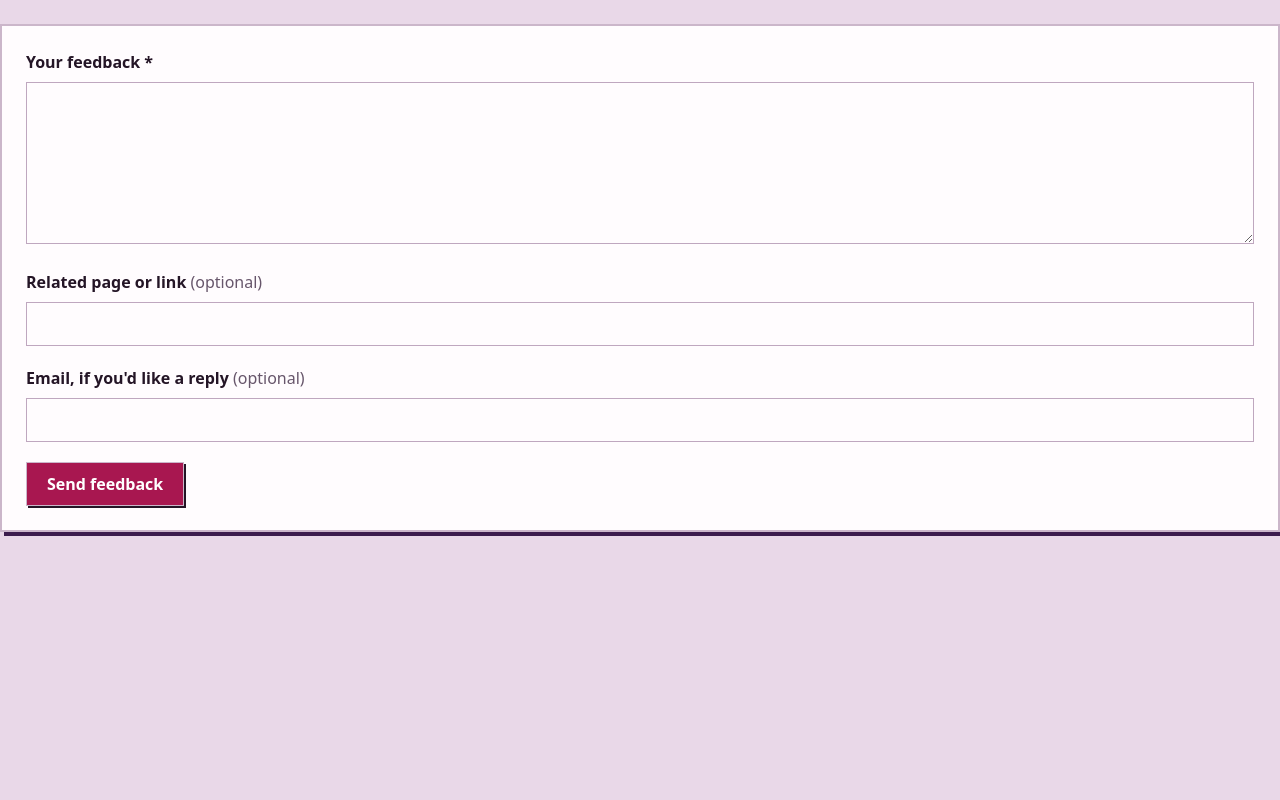
Test: CorrectionForm › clears the form and announces success
Type "Please make searching by song easier." into the text box labelled "Your feedback *".
click(640, 163); type("Please make searching by song easier.")  # box [26,82,1254,244]
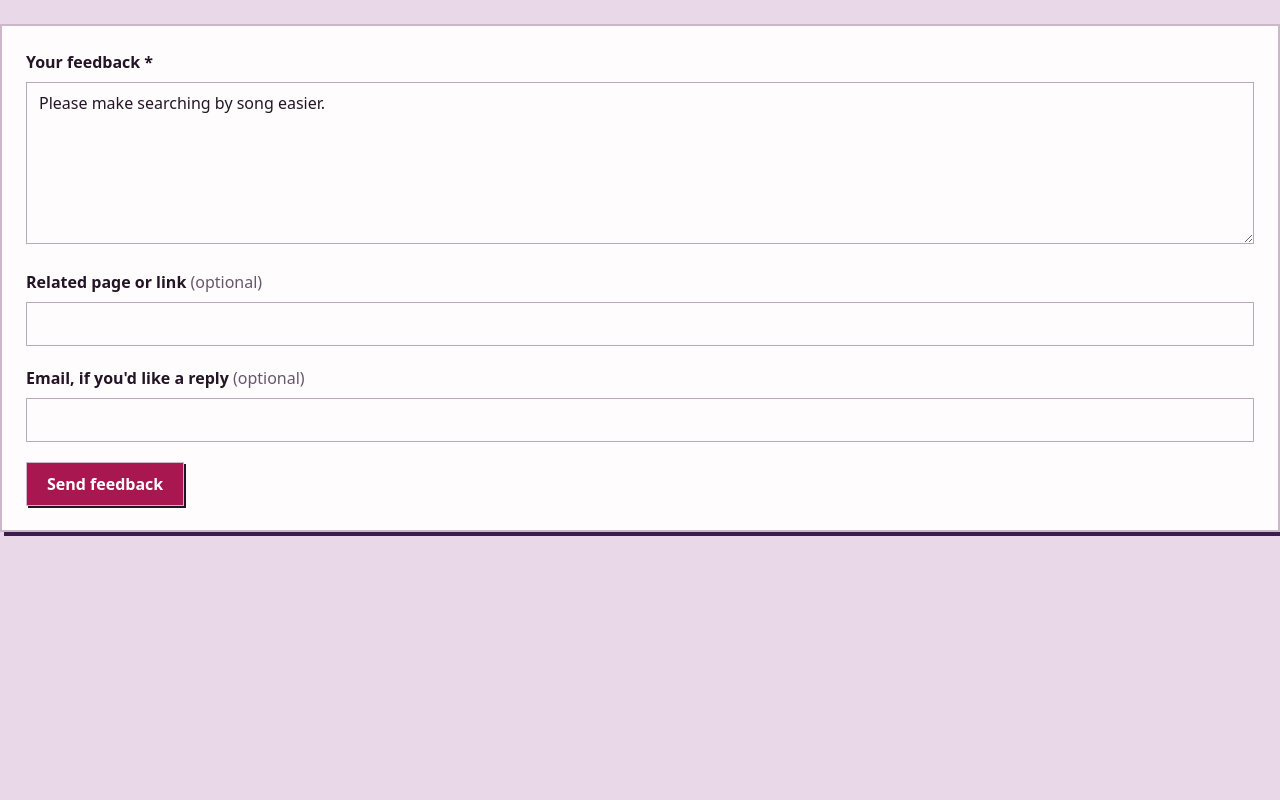
Click the button "Send feedback".
click(105, 484)  # box [26,462,184,506]
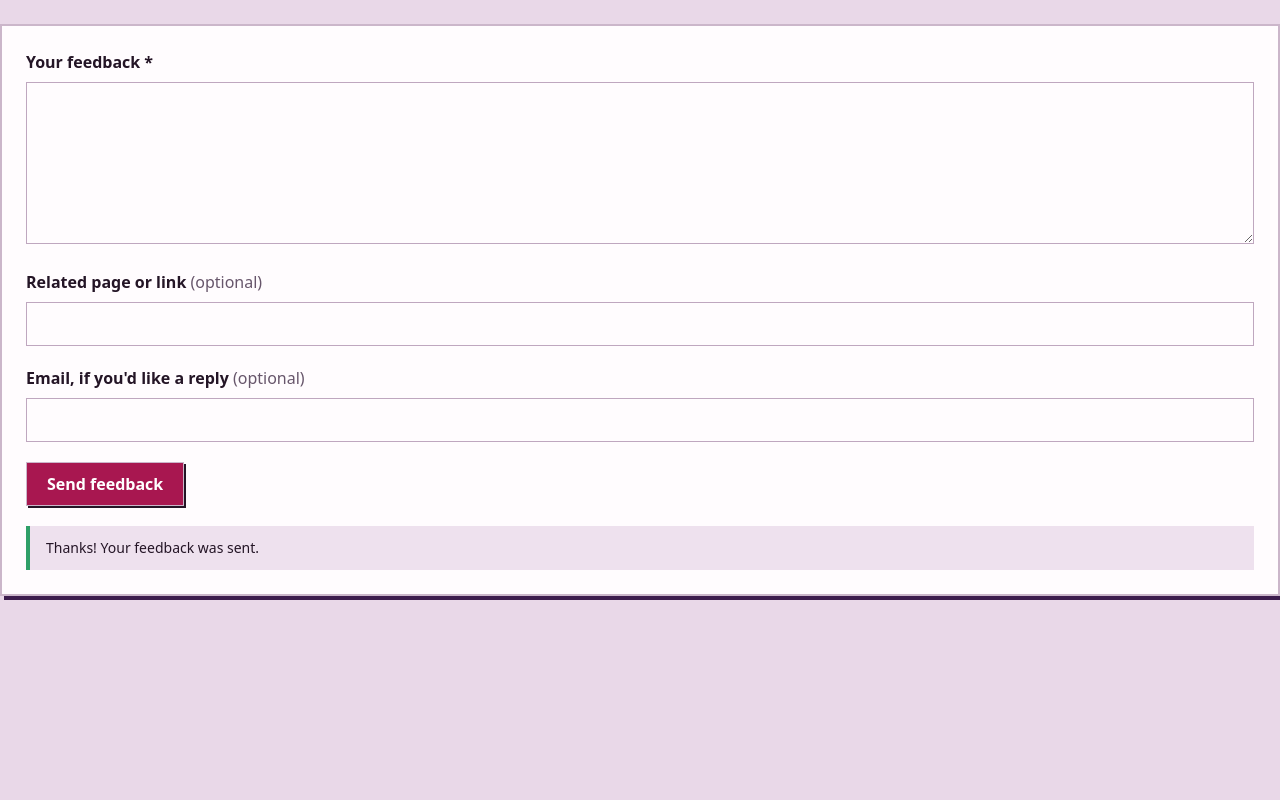
Expected: the field labelled "Related page or link (optional)" is empty, [26,302,1254,346]
Expected: the text "Thanks! Your feedback was sent." is shown, [26,526,1254,570]
